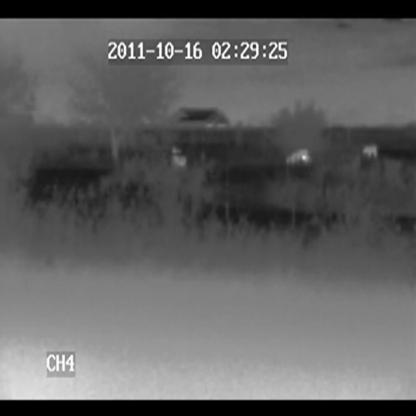rehkitze: (286, 150, 315, 171), (357, 142, 378, 159)
